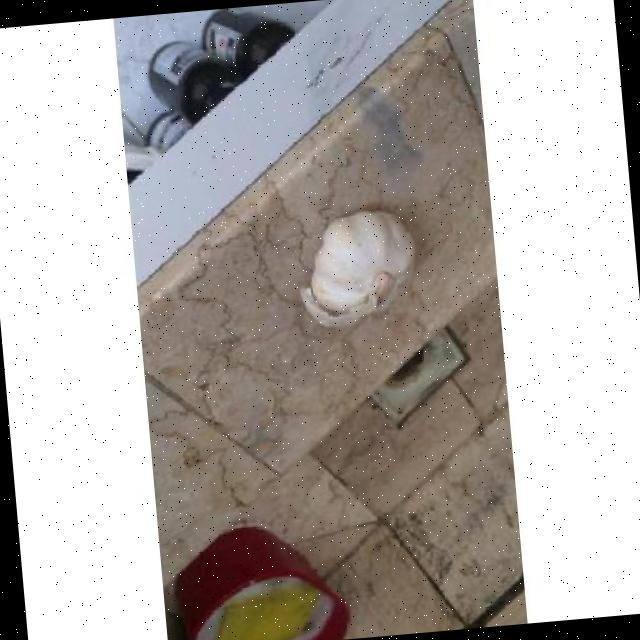garlic: (299, 209, 412, 326)
